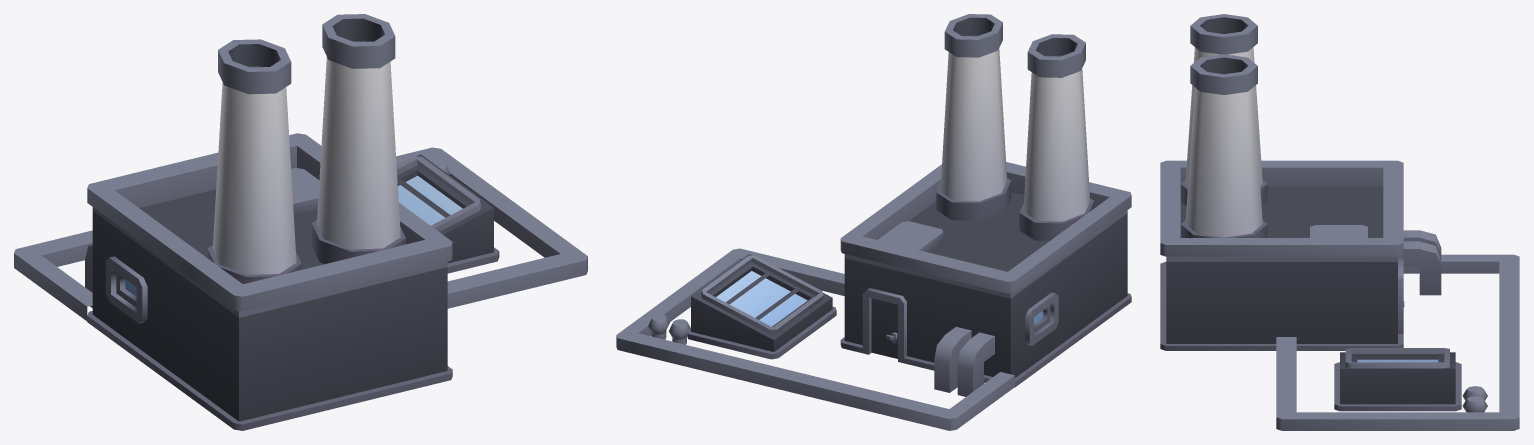
Rendered from industrial-e.glb.
3 views of the same model, side by side, from view 1: azimuth 30°, elevation 25°; view 2: azimuth 150°, elevation 25°; view 3: azimuth 270°, elevation 25° (orthographic). The views are drawn at different scales.
Parts seen in each view (by area): view 1: building-e; view 2: building-e; view 3: building-e.
Boxes of the visible parts, x1,y1,x2,y2 form: building-e: (14,14,587,430); building-e: (616,14,1131,430); building-e: (1160,14,1519,430).
Size of the model in its own units: 14.61 by 10.88 by 13.46.
1 material, 1 textured.
